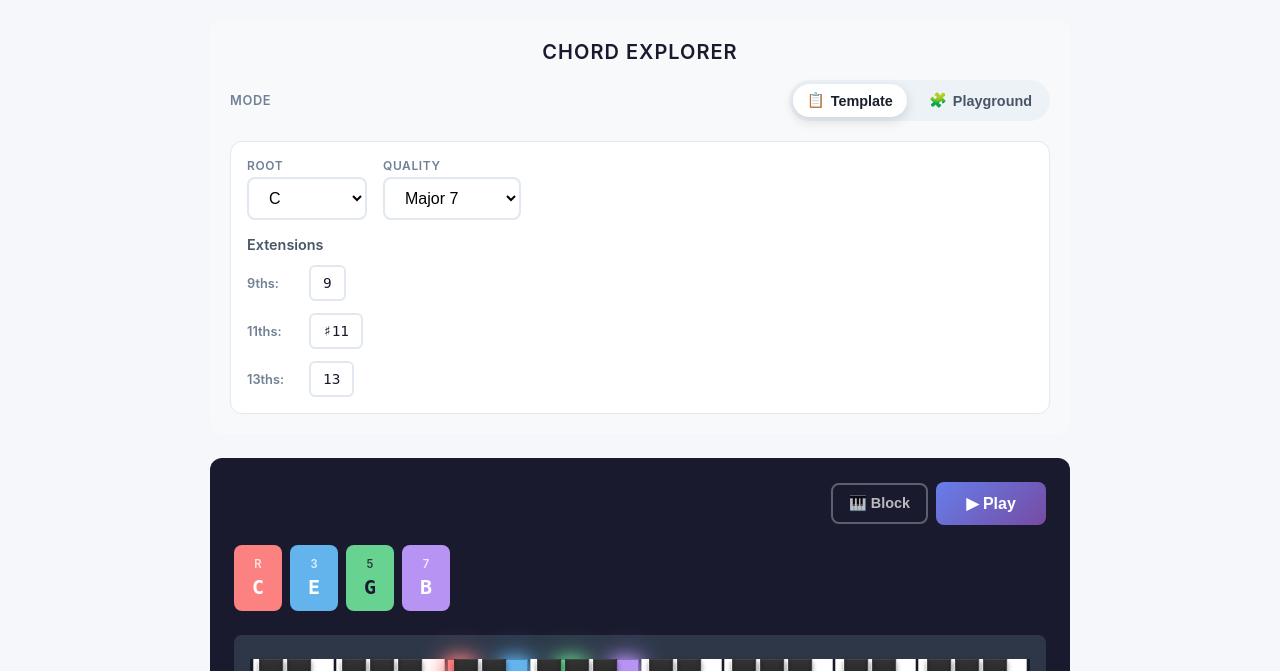
Scenario: ChordExplorer (Playground Mode) › applies preset and resets to defaults
The width and height of the screenshot is (1280, 671).
Click the button "🧩 Playground": {"x": 980, "y": 100} [915, 84, 1046, 117]
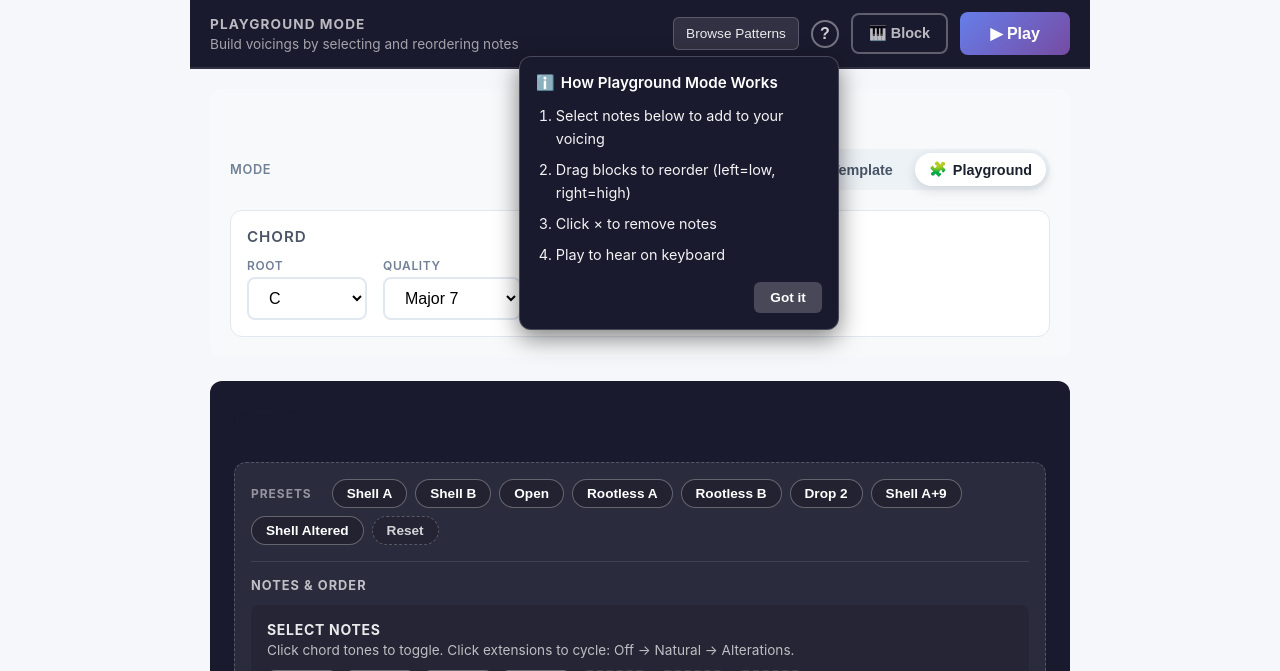
Click the button "Shell A": {"x": 369, "y": 494} [332, 479, 407, 508]
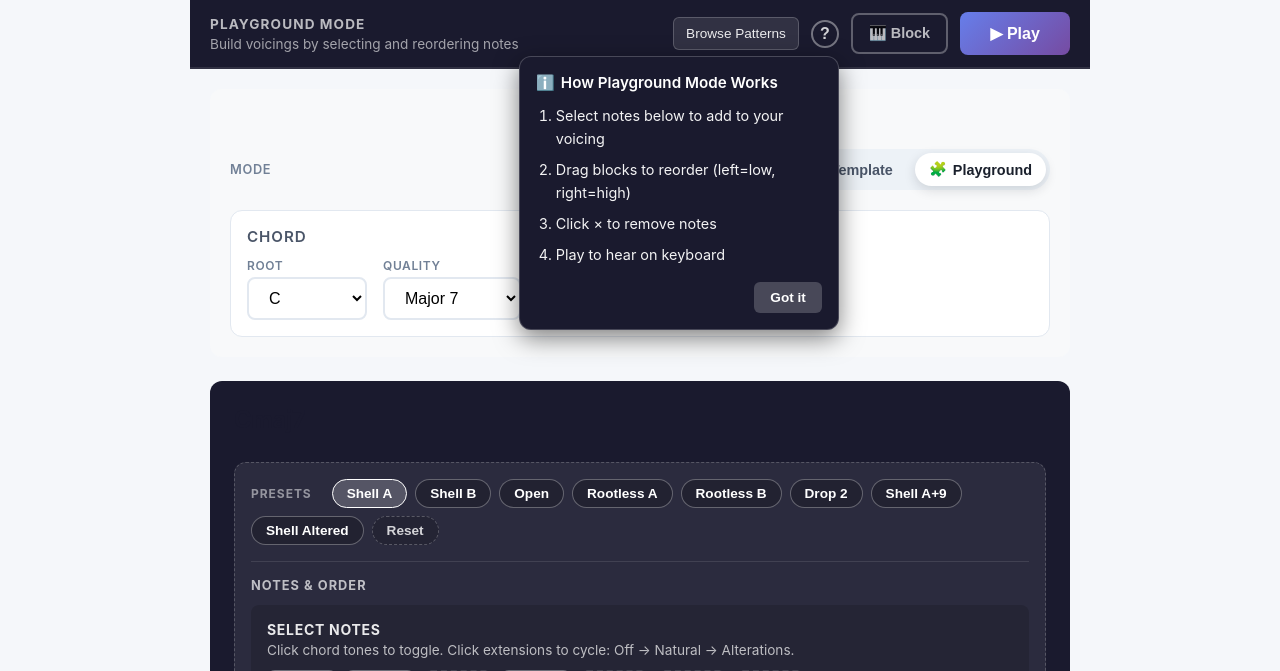
Click the button "Reset": {"x": 405, "y": 530} [372, 516, 439, 545]
(page scrolled)
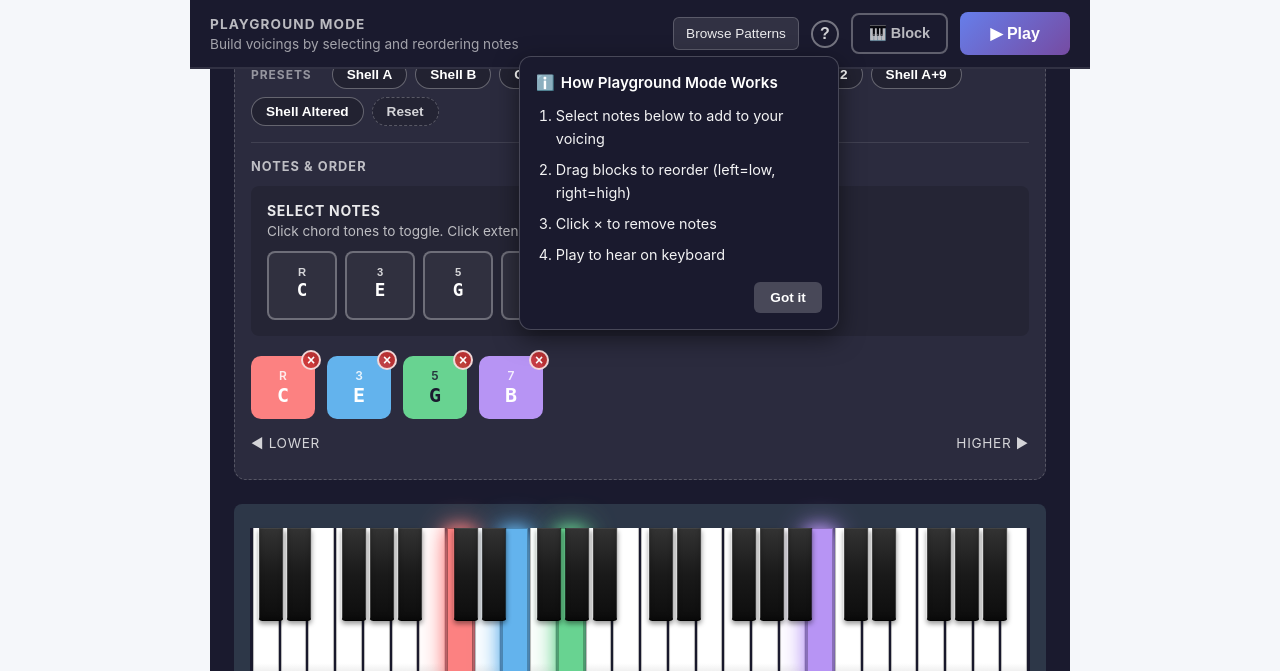
Result: the button named "Remove G" is shown at [453, 350, 473, 370]
